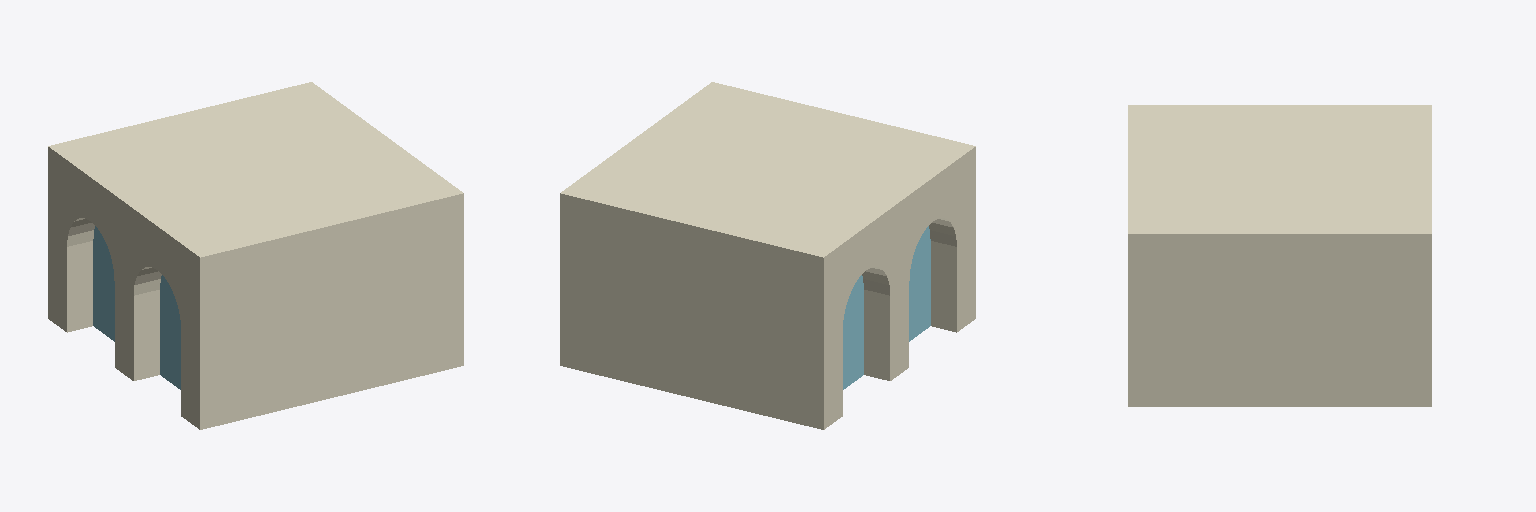
File: floor1.obj
The picture shows the model from 3 angles: view 1: azimuth 30°, elevation 25°; view 2: azimuth 150°, elevation 25°; view 3: azimuth 270°, elevation 25°; orthographic projection.
Parts seen in each view (by area): view 1: floor1; view 2: floor1; view 3: floor1.
Part boxes in pixels (x1,y1,x2,y2): floor1: (48, 82, 463, 429); floor1: (560, 82, 975, 429); floor1: (1128, 105, 1431, 406).
Bounding box in the file's own units: 1 × 0.625 × 1.